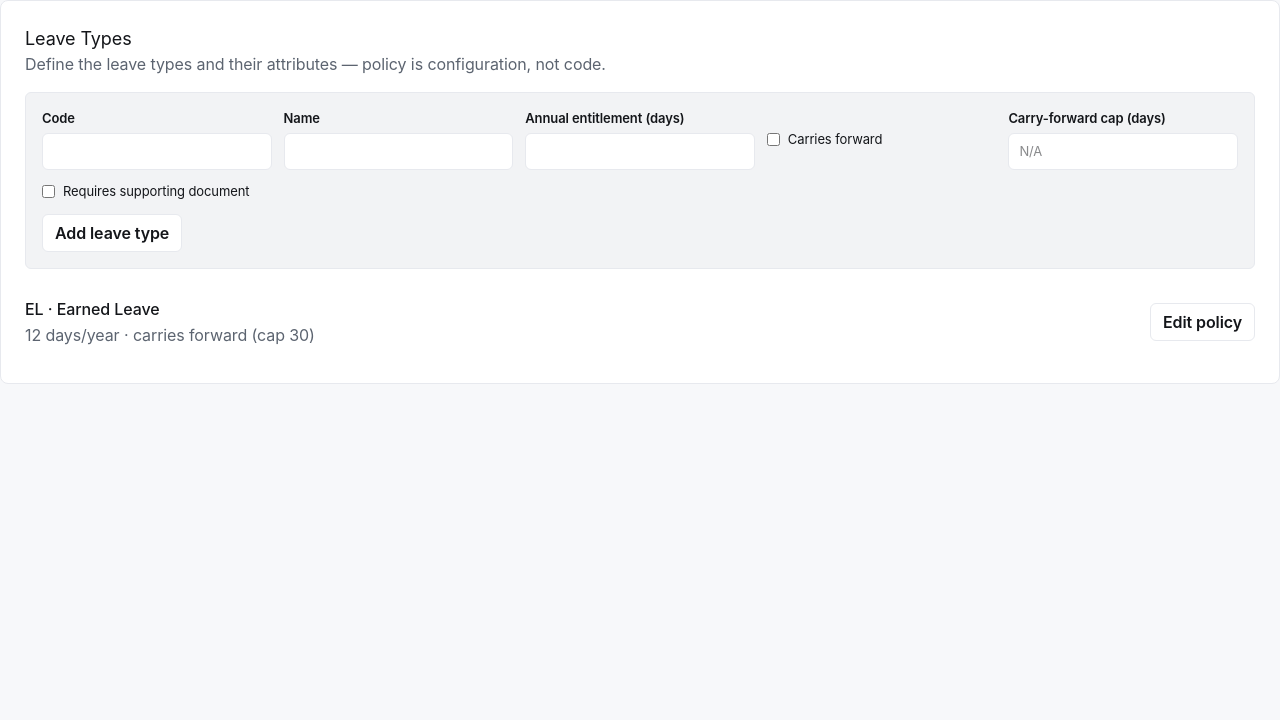
Scenario: LeaveTypesPage — edit form Save state and reason hint › balance-affecting edit with a disposition chosen: Save enables and the hint clears
This screenshot has width=1280, height=720.
Click the button "Edit policy": (1202, 322) [1150,302,1255,340]
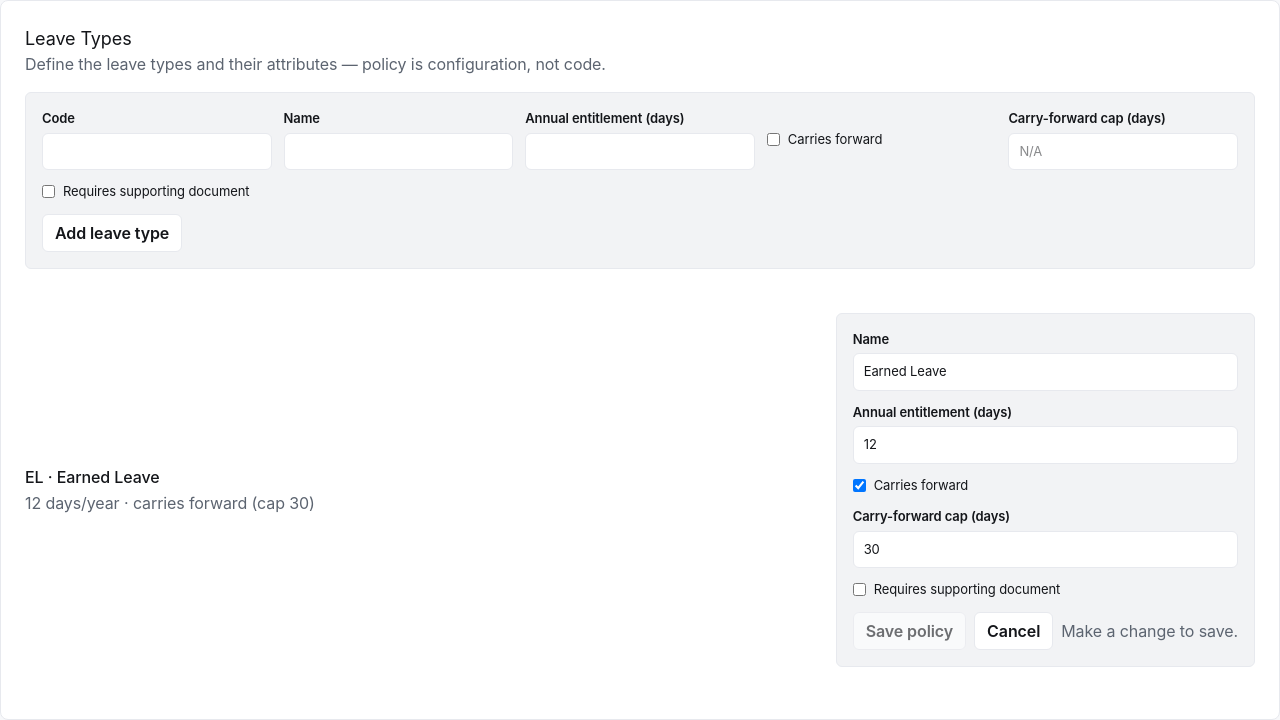
Clear the 2nd number field labelled "Annual entitlement (days)": (1045, 445) [853,426,1238,464]
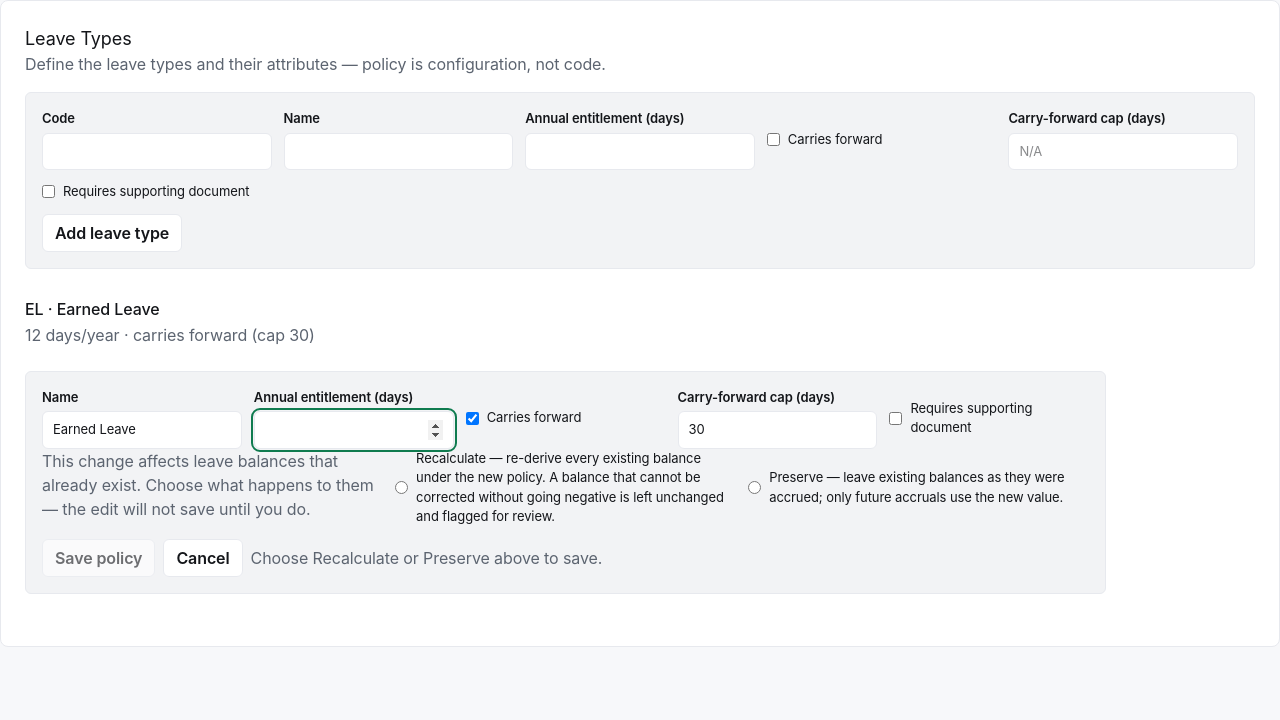
In the number field labelled "Annual entitlement (days)" below "Earned Leave": (354, 430) [254,411,454,448], type "20"
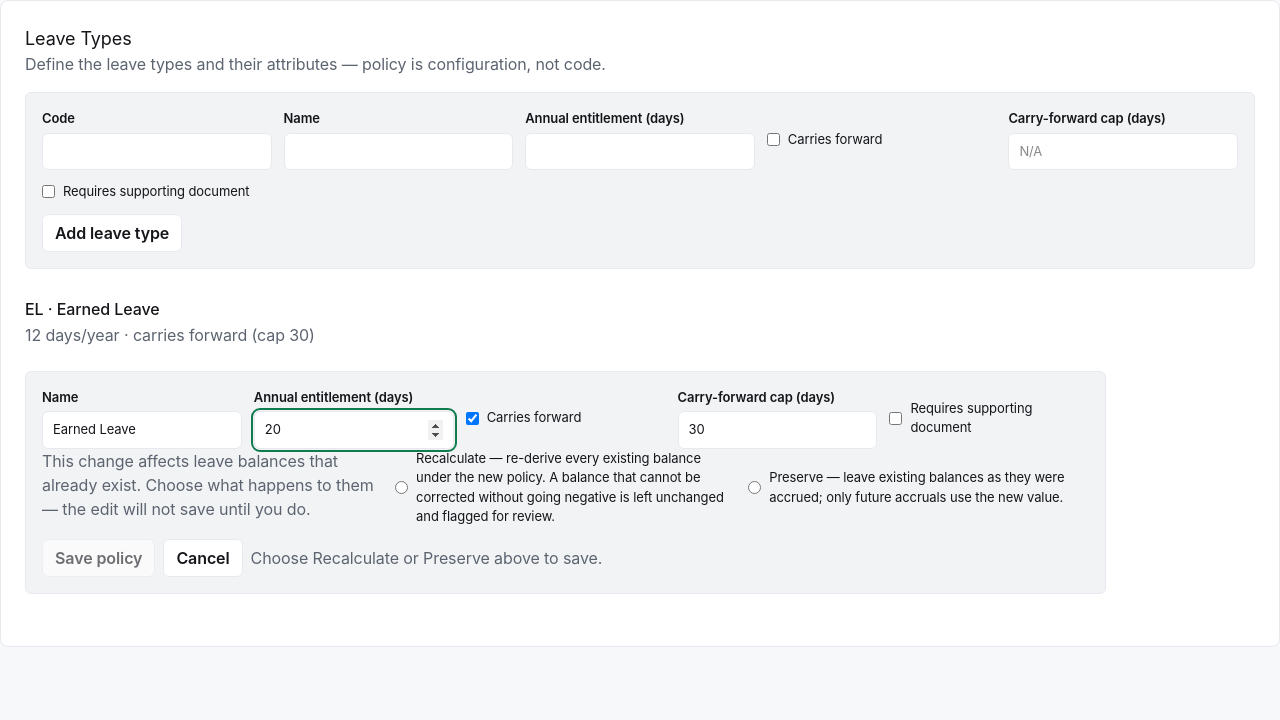
Click the radio button labelled "Recalculate": (402, 488) [395,481,408,494]
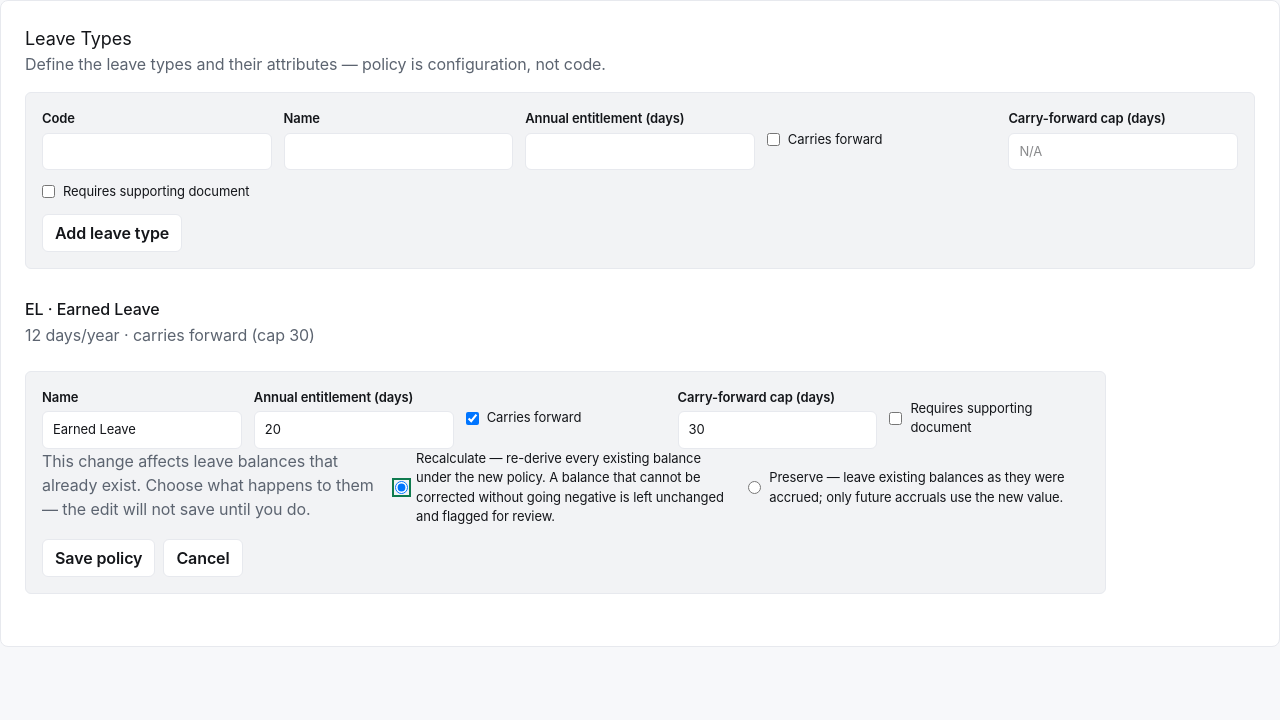
Expected: the button "Save policy" is enabled, [42,538,155,576]
Expected: the text "Choose Recalculate or Preserve above to save." is gone
